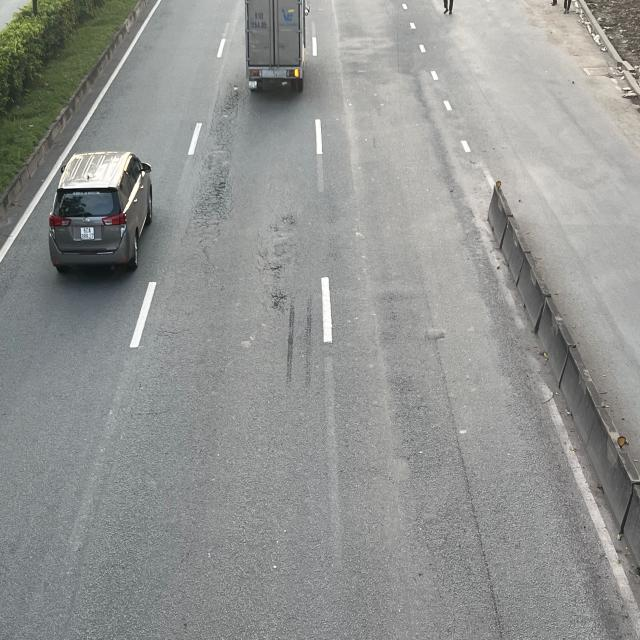car: (45, 150, 153, 274)
truck: (244, 0, 311, 92)
